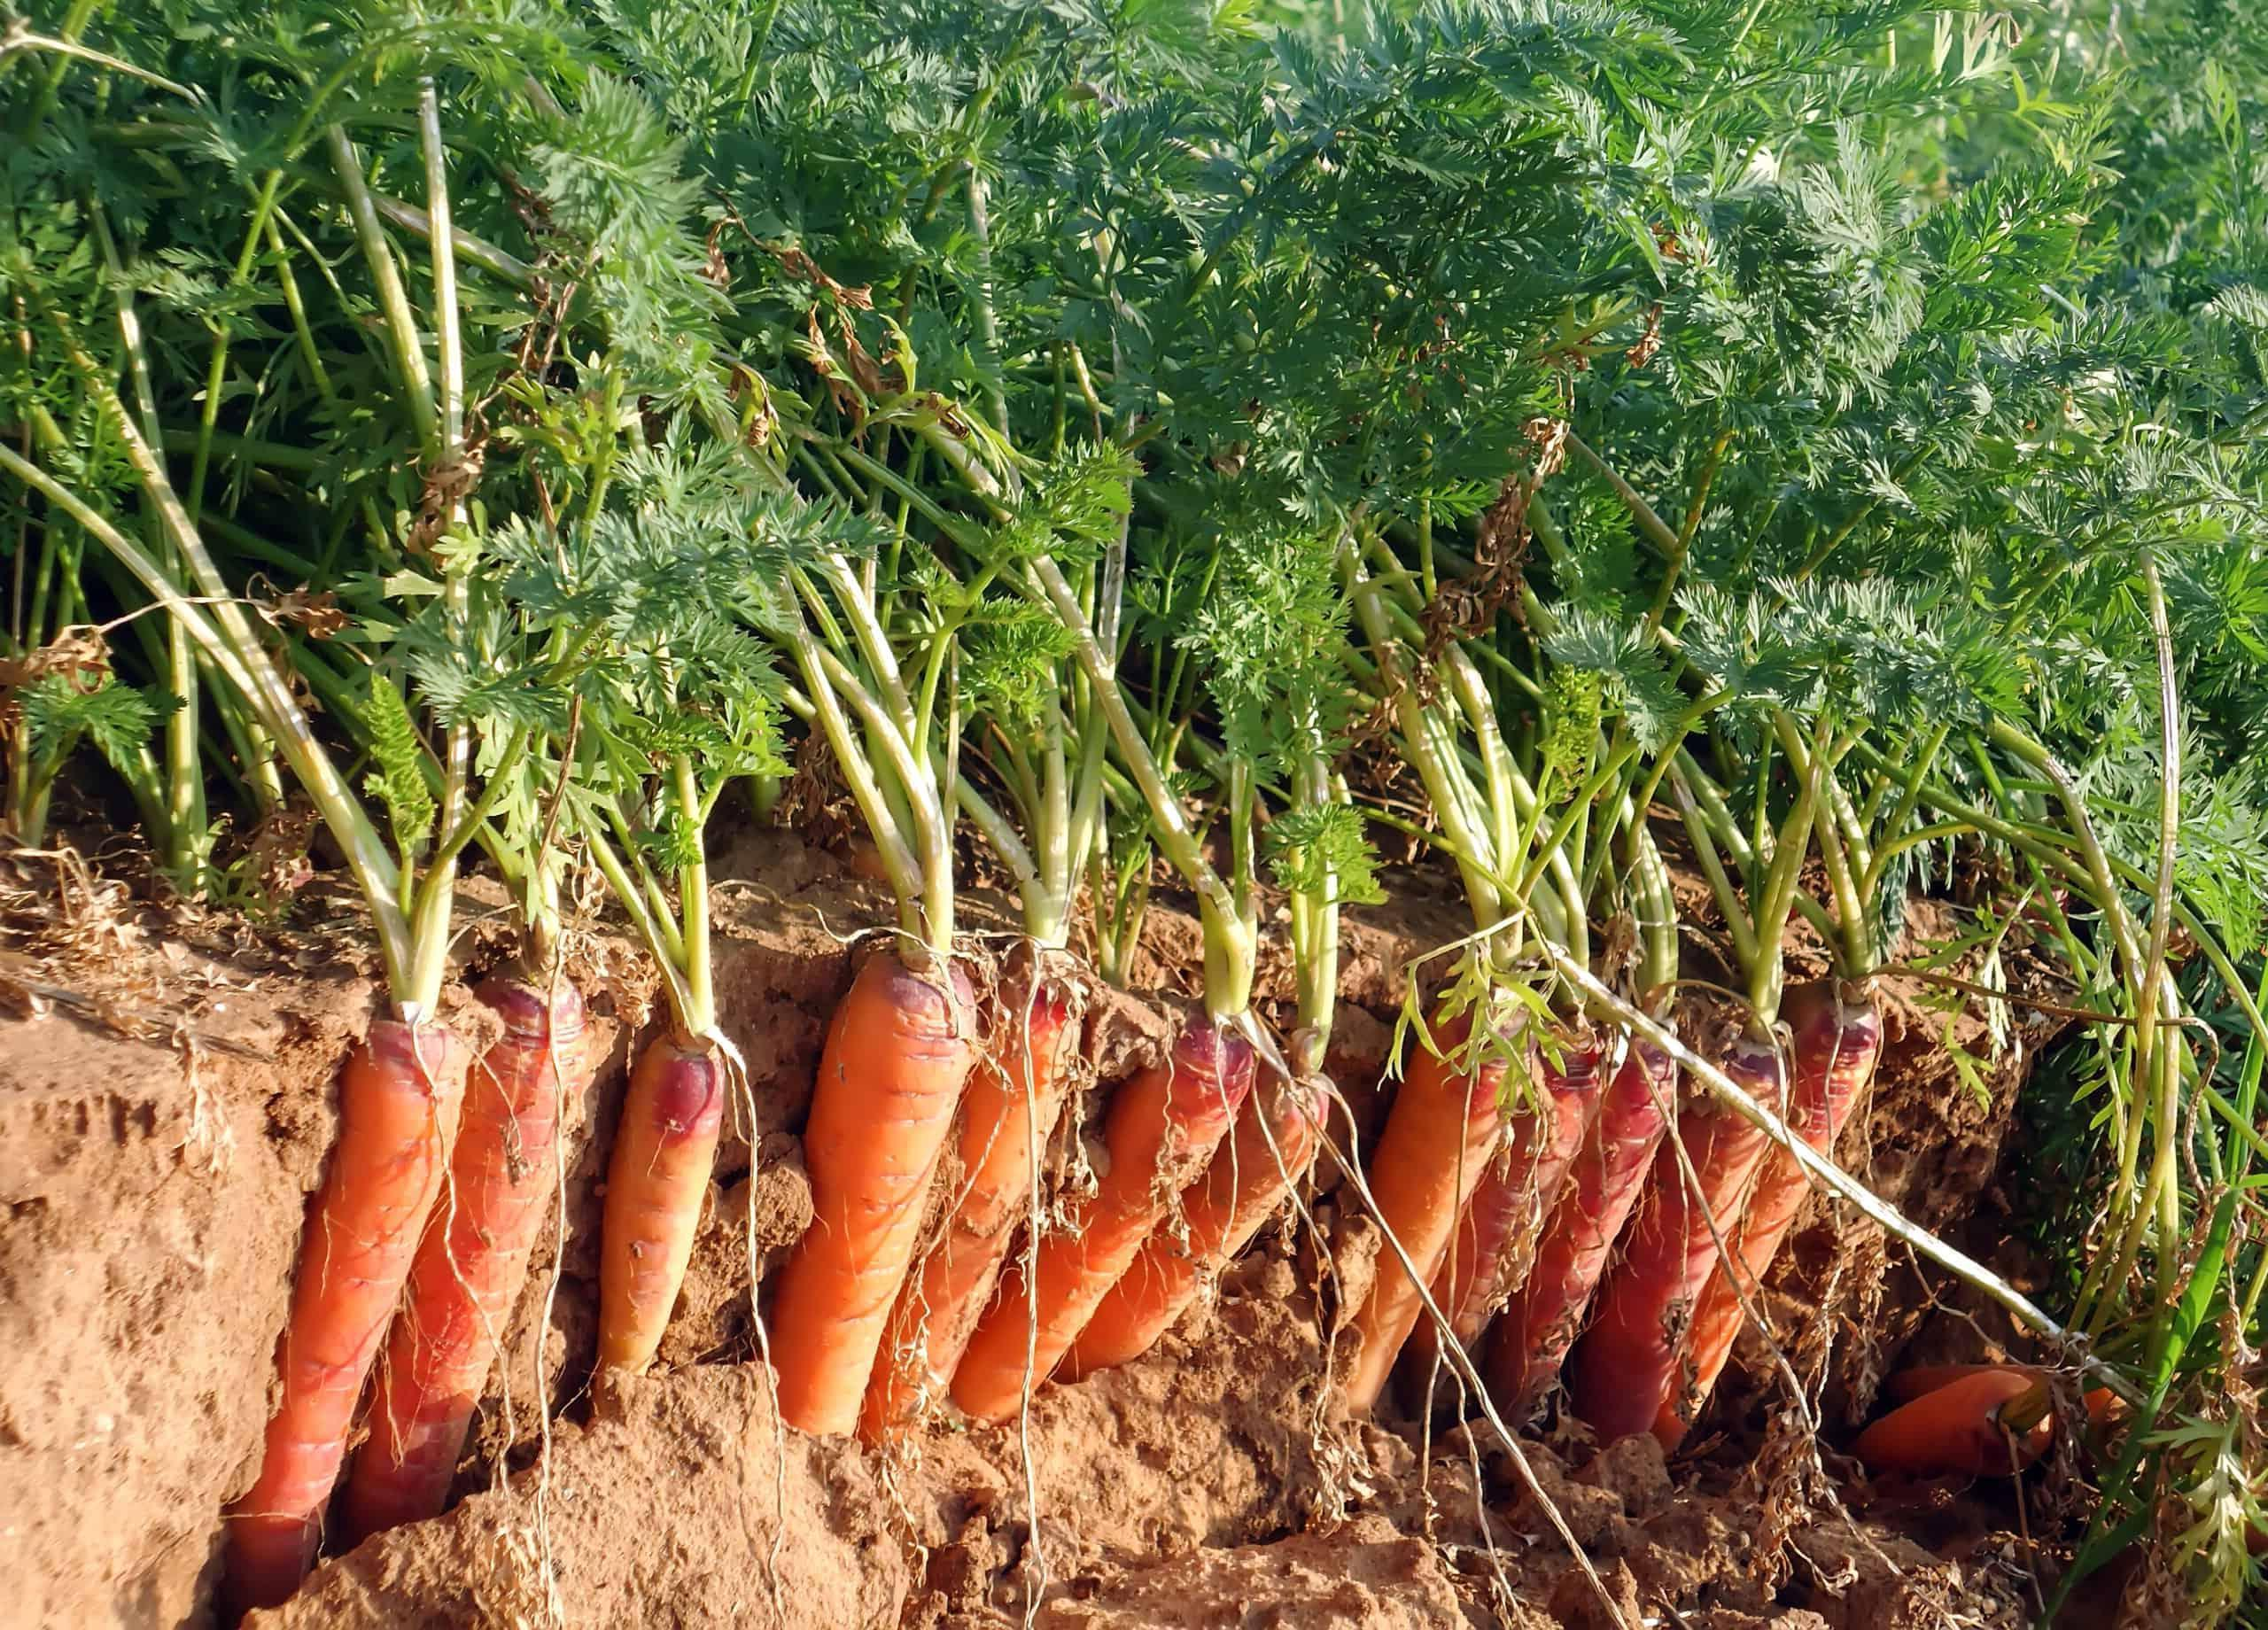carrot: (340, 991, 1867, 1438), (1407, 1010, 2023, 1509), (276, 991, 722, 1465), (835, 935, 1248, 1405)
